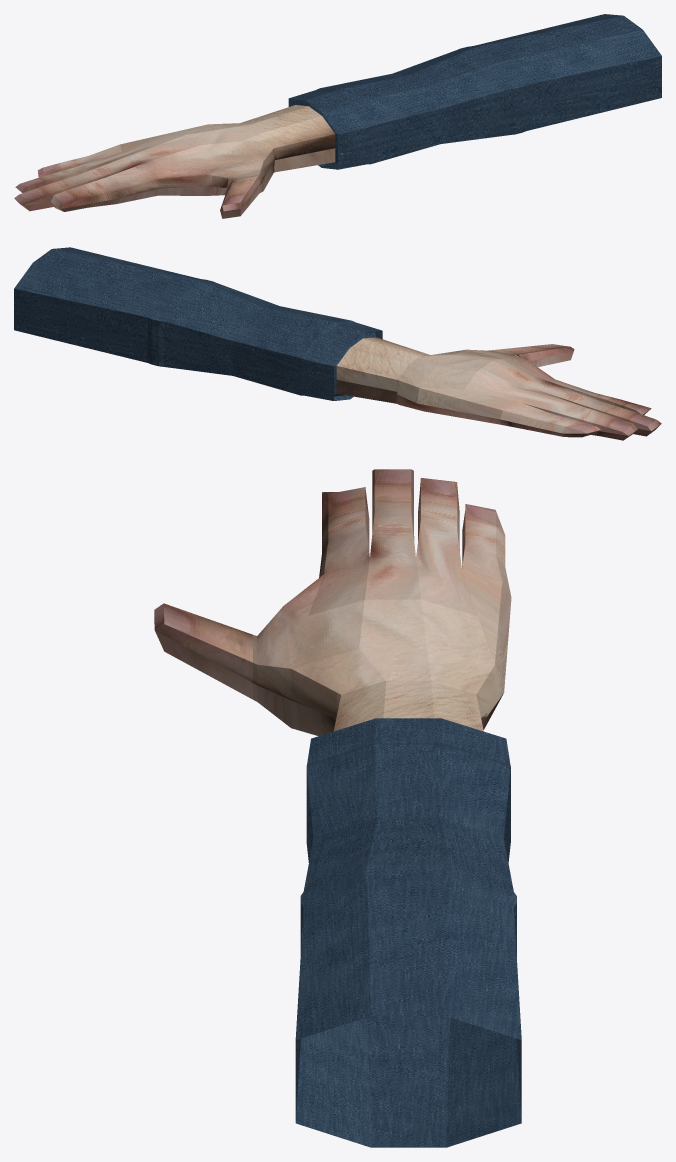
Rendered from Player_Arm.glb.
3 views of the same model, one above another, from view 1: azimuth 30°, elevation 25°; view 2: azimuth 150°, elevation 25°; view 3: azimuth 270°, elevation 25° (orthographic). The views are drawn at different scales.
Visible parts, largest first — view 1: Cube.001; view 2: Cube.001; view 3: Cube.001.
Part boxes in pixels (bbox=[...]): Cube.001: bbox=[14, 14, 661, 218]; Cube.001: bbox=[14, 247, 661, 440]; Cube.001: bbox=[154, 469, 521, 1147].
Size of the model in its own units: 0.8986 by 0.1016 by 0.2343.
Materials: 1 (1 with a texture image).
